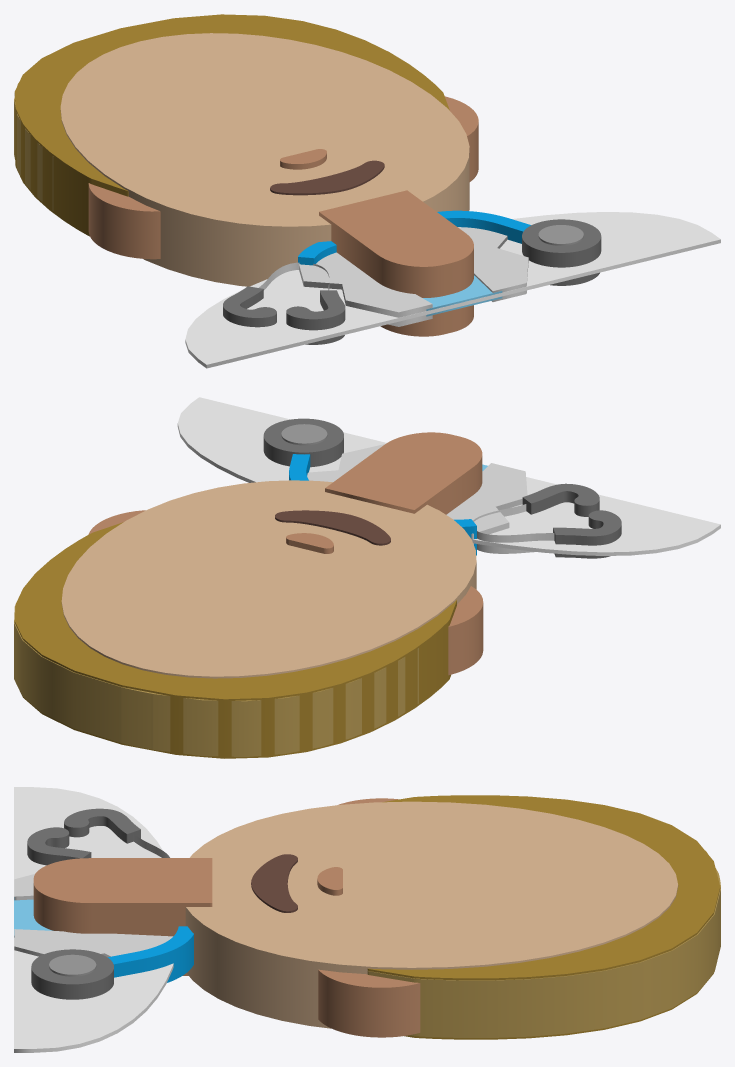
Rendered from emoji_u1f468_1f3fc_200d_2695.glb.
3 renders of one model, top to bottom at view 1: azimuth 30°, elevation 25°; view 2: azimuth 150°, elevation 25°; view 3: azimuth 270°, elevation 25°, orthographic. The views are drawn at different scales.
Visible parts, largest first — view 1: emoji_u1f468_1f3fc_200d_2695; view 2: emoji_u1f468_1f3fc_200d_2695; view 3: emoji_u1f468_1f3fc_200d_2695.
Boxes of the visible parts, <box> form: emoji_u1f468_1f3fc_200d_2695: <box>14,14,720,368</box>; emoji_u1f468_1f3fc_200d_2695: <box>14,397,720,758</box>; emoji_u1f468_1f3fc_200d_2695: <box>14,787,720,1052</box>.
Bounding box in the file's own units: 0.0293 × 0.004 × 0.0334.
